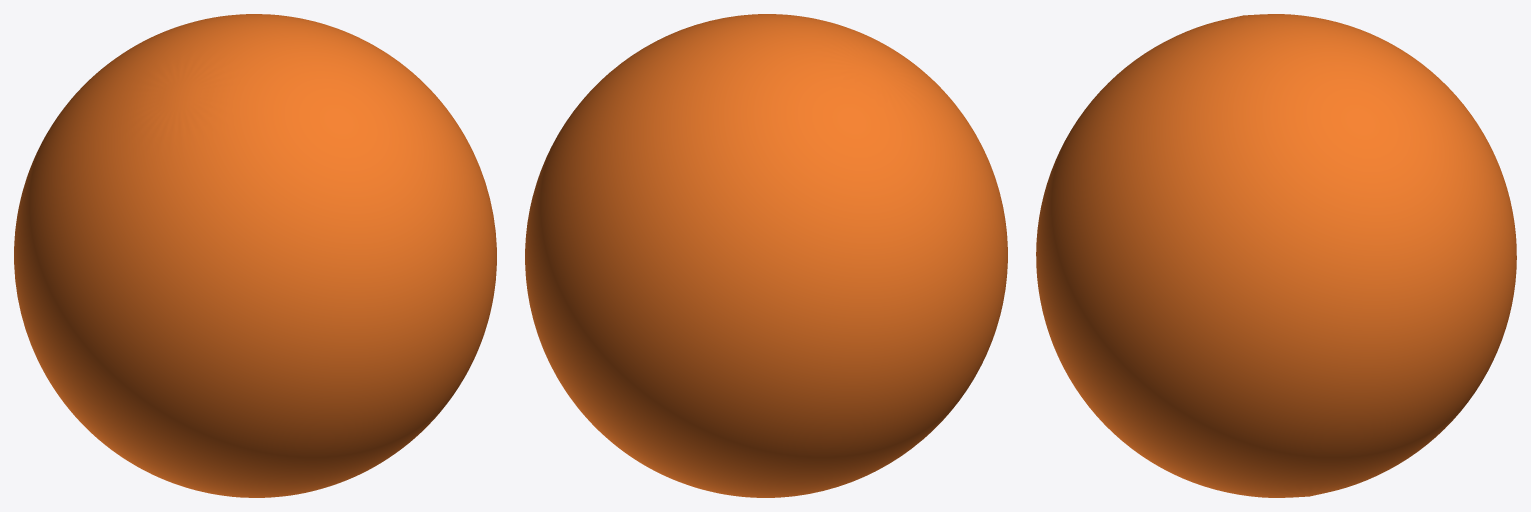
Rendered from ball.obj.
3 views of the same model, side by side, from view 1: azimuth 30°, elevation 25°; view 2: azimuth 150°, elevation 25°; view 3: azimuth 270°, elevation 25° (orthographic).
Visible parts, largest first — view 1: Sphere; view 2: Sphere; view 3: Sphere.
Part boxes in pixels (x1,y1,x2,y2): Sphere: (14,14,496,497); Sphere: (525,14,1007,497); Sphere: (1036,14,1516,497).
Size of the model in its own units: 1.98 by 1.99 by 1.98.
Materials: 1 (1 with a texture image).
